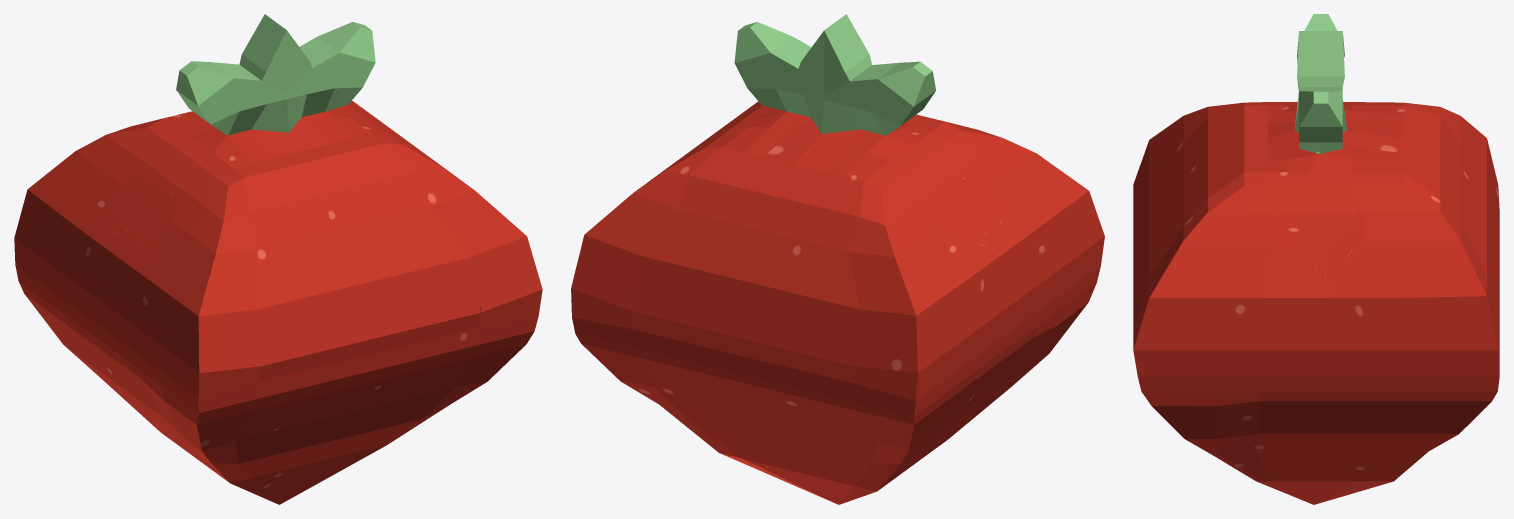
The model's file is strawberry.fbx.
The picture shows the model from 3 angles, left to right: view 1: azimuth 30°, elevation 25°; view 2: azimuth 150°, elevation 25°; view 3: azimuth 270°, elevation 25°; orthographic projection. The views are drawn at different scales.
Parts seen in each view (by area): view 1: shao_main; view 2: shao_main; view 3: shao_main.
Boxes of the visible parts, x1,y1,x2,y2 form: shao_main: (14, 14, 542, 504); shao_main: (571, 14, 1104, 504); shao_main: (1133, 14, 1499, 504).
Bounding box in the file's own units: 14.73 × 19.68 × 13.79.
Materials: 1 (1 with a texture image).
